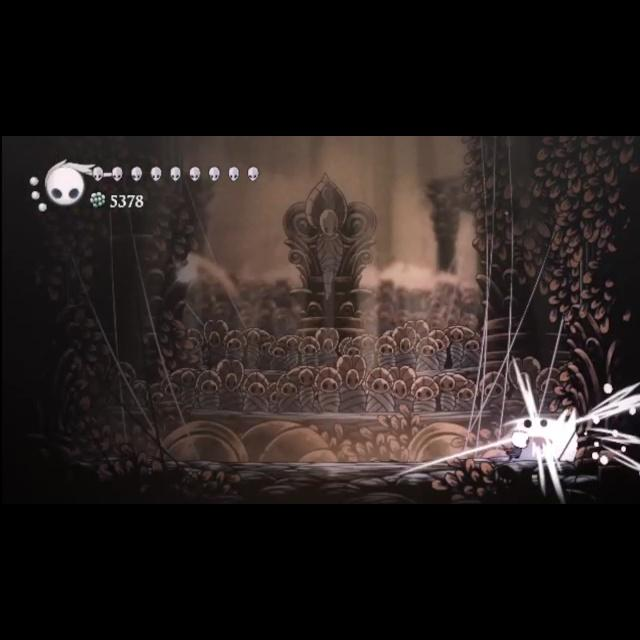EnemyDamaged: (550, 402, 606, 466)
Player: (496, 416, 536, 462)
